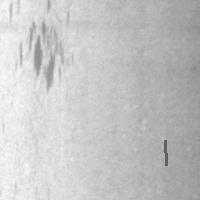inclusion: (14, 12, 72, 92), (163, 138, 168, 167)
